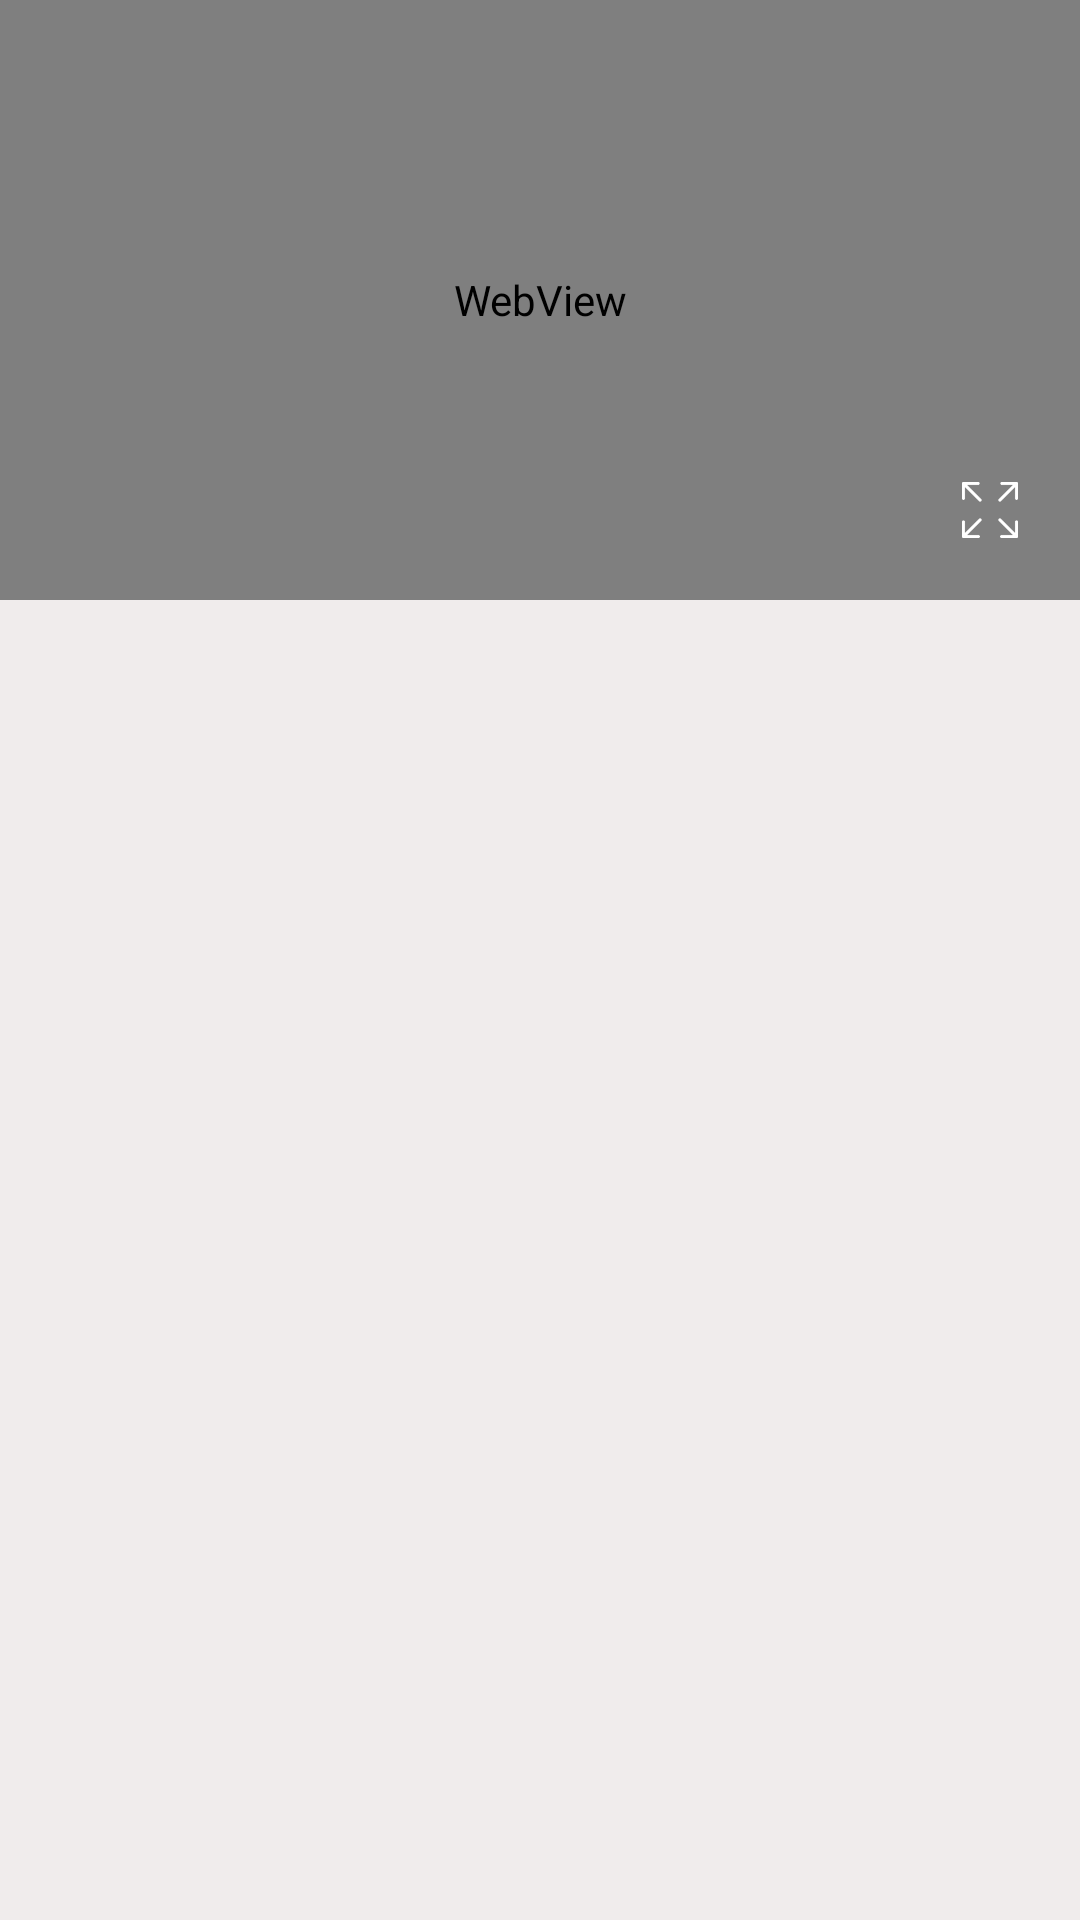

Where to tap for icons on this 1080x1920 app screen, as (x=x, y=y):
full: (x=990, y=510)
